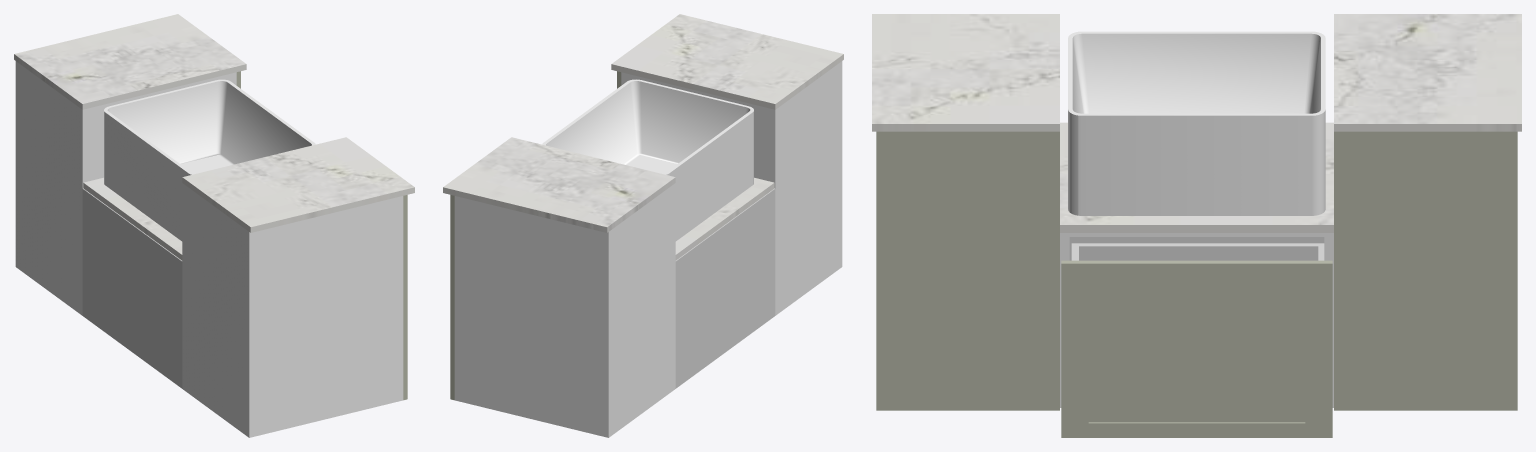
File: Gabriel_Hallway.glb
The picture shows the model from 3 angles, left to right: view 1: azimuth 30°, elevation 25°; view 2: azimuth 150°, elevation 25°; view 3: azimuth 270°, elevation 25°; orthographic projection. The views are drawn at different scales.
Visible parts, largest first — view 1: C-FloorSide720.002, G-Object.003, C-FloorBack720.001, C-FloorBack720, C-FloorBack, G-Object.005, G-Object.009, C-FloorSide720.004, G-Object.001, G-Object.006; view 2: C-FloorSide720.005, G-Object.003, C-FloorBack720, C-FloorBack720.001, C-FloorBack, G-Object.005, G-Object.009, C-FloorSide720.003, G-Object.001, G-Object.010; view 3: C-Door450x720#2, G-Object.003, G-Object.006, G-Object.010, G-Object.005, G-Object.009, G-Object.007, G-Object.011, G-Object.001, C-DrawerFront160, C-FloorBack, C-FloorCleatHor.
Part boxes in pixels (x1,y1,x2,y2): C-FloorSide720.002: (250, 196, 403, 437); G-Object.003: (104, 79, 315, 241); C-FloorBack720.001: (15, 61, 83, 315); C-FloorBack720: (182, 183, 249, 437); C-FloorBack: (82, 188, 182, 388); G-Object.005: (182, 137, 414, 232); G-Object.009: (14, 14, 246, 109); C-FloorSide720.004: (83, 72, 236, 182); G-Object.001: (83, 177, 182, 260); G-Object.006: (403, 265, 407, 400); C-FloorSide720.005: (454, 196, 607, 437); G-Object.003: (542, 79, 753, 241); C-FloorBack720: (774, 61, 842, 315); C-FloorBack720.001: (608, 183, 675, 437); C-FloorBack: (675, 188, 775, 388); G-Object.005: (611, 14, 843, 109); G-Object.009: (443, 137, 675, 232); C-FloorSide720.003: (621, 72, 774, 182); G-Object.001: (675, 177, 774, 260); G-Object.010: (450, 265, 454, 400); C-Door450x720#2: (1061, 260, 1332, 437); G-Object.003: (1068, 31, 1325, 215); G-Object.006: (876, 226, 1059, 410); G-Object.010: (1334, 226, 1517, 410); G-Object.005: (872, 14, 1059, 131); G-Object.009: (1334, 14, 1521, 131); G-Object.007: (876, 131, 1059, 225); G-Object.011: (1334, 131, 1517, 225); G-Object.001: (1060, 122, 1333, 232); C-DrawerFront160: (1079, 243, 1318, 260); C-FloorBack: (1069, 237, 1324, 260); C-FloorCleatHor: (1069, 233, 1324, 236).
Bounding box in the file's own units: 0.729 × 0.74 × 1.5.
Materials: 7 (1 with a texture image).
